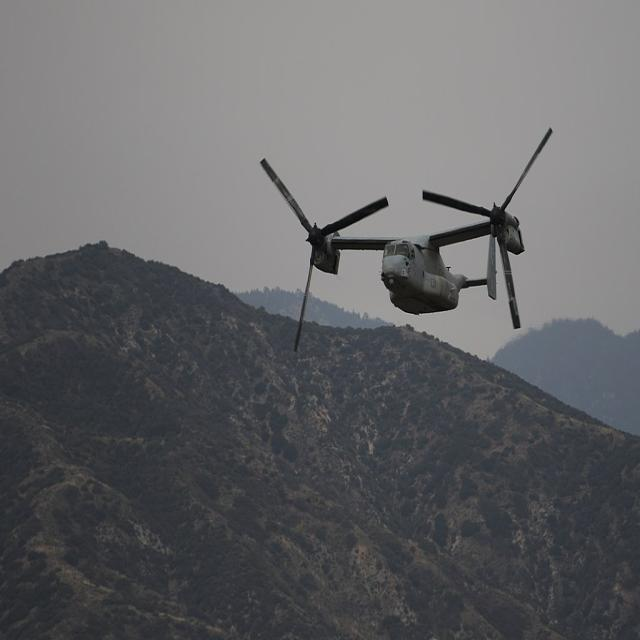MIL_Plane: (259, 126, 554, 354)
